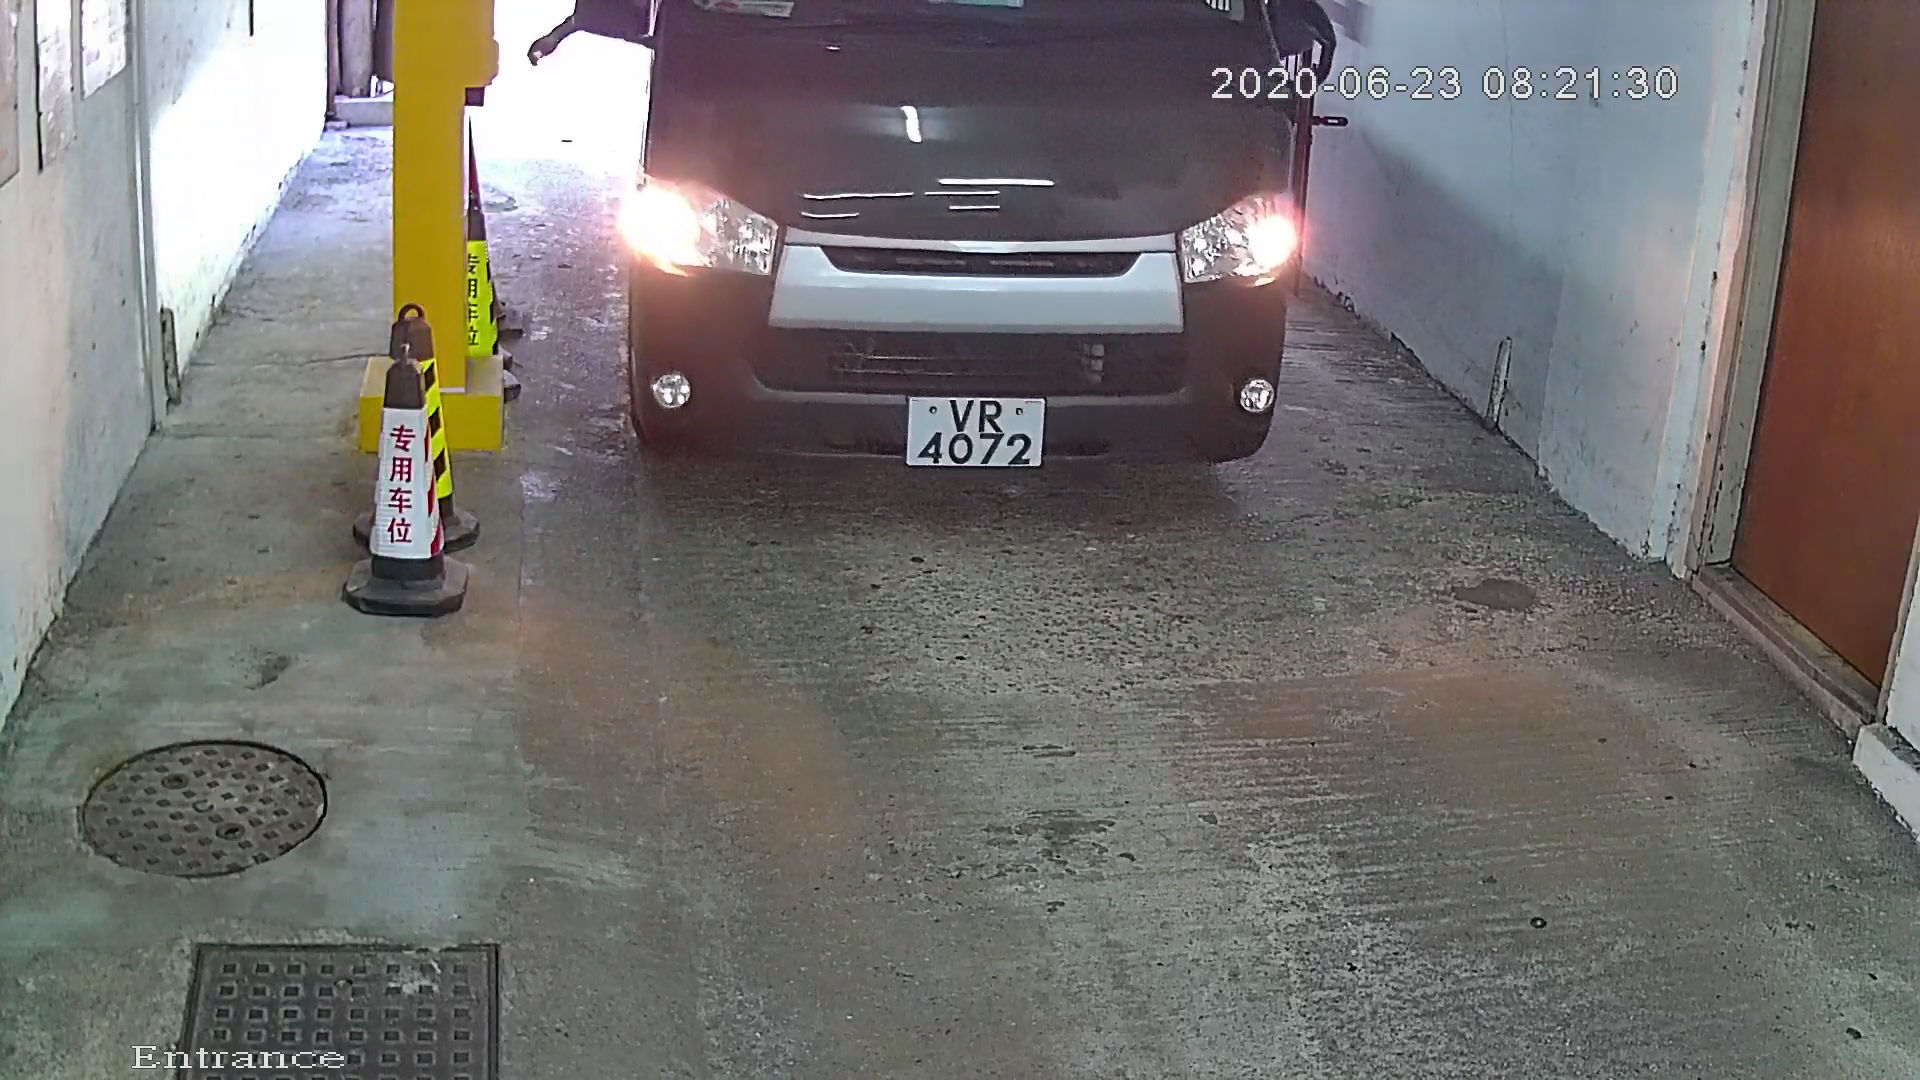van_s: (563, 3, 1411, 592)
